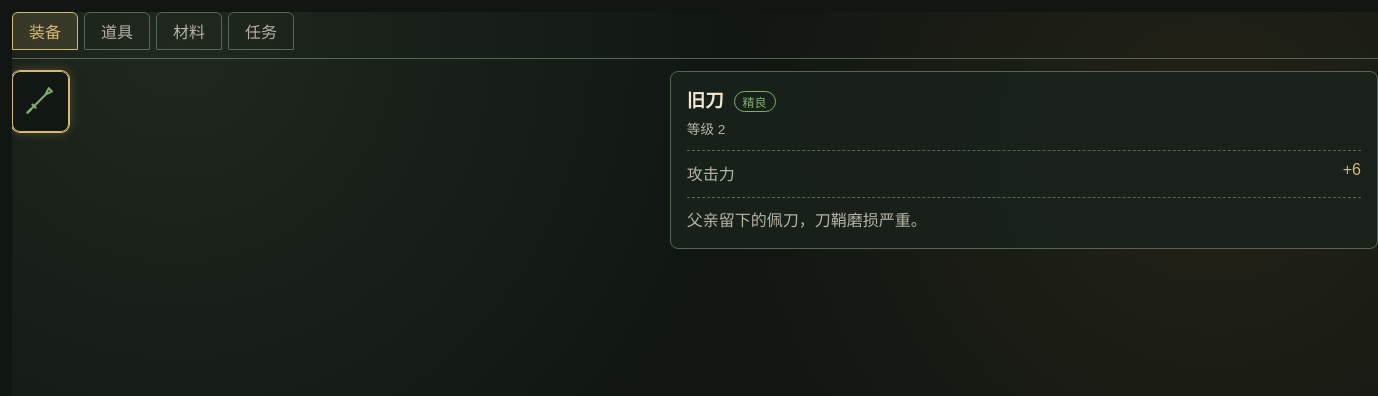
InventoryPanel › switches category and resets selection to the first item
This screenshot has width=1378, height=396.
Click the tab "任务" at (261, 31), box 228,12 -> 294,50
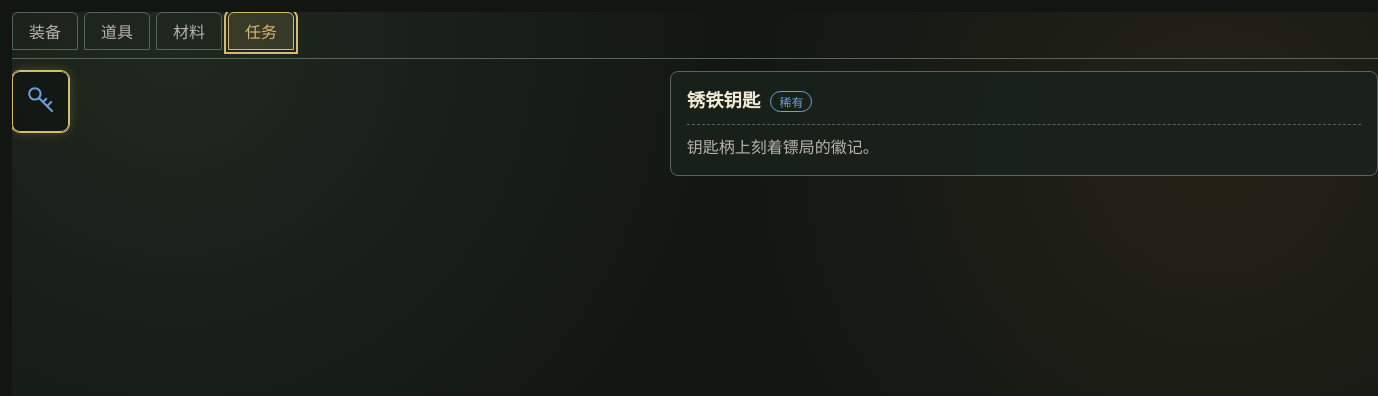
Now the button named "锈铁钥匙" is shown, box 12,71 -> 69,132
Now the heading "旧刀" is gone
Now the element with test id "inventory-details" shows "钥匙柄上刻着镖局的徽记。", box 687,139 -> 879,156
